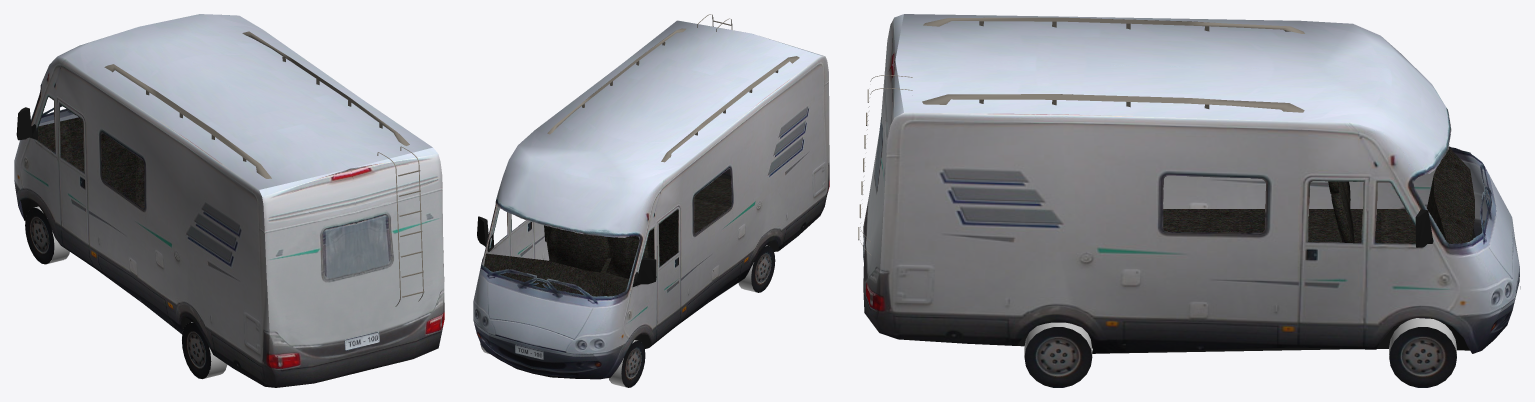
Rendered from camioneta01.FBX.
3 renders of one model, left to right at view 1: azimuth 30°, elevation 25°; view 2: azimuth 150°, elevation 25°; view 3: azimuth 270°, elevation 25°, orthographic. The views are drawn at different scales.
Visible parts, largest first — view 1: 28car, camioneta01; view 2: 28car, camioneta01; view 3: 28car, camioneta01.
Boxes of the visible parts, bbox=[...] form: 28car: bbox=[14, 14, 444, 387]; camioneta01: bbox=[25, 206, 227, 379]; 28car: bbox=[473, 14, 829, 379]; camioneta01: bbox=[480, 245, 775, 387]; 28car: bbox=[858, 14, 1520, 353]; camioneta01: bbox=[1024, 318, 1456, 387].
Bounding box in the file's own units: 2.48 × 2.68 × 5.67.
